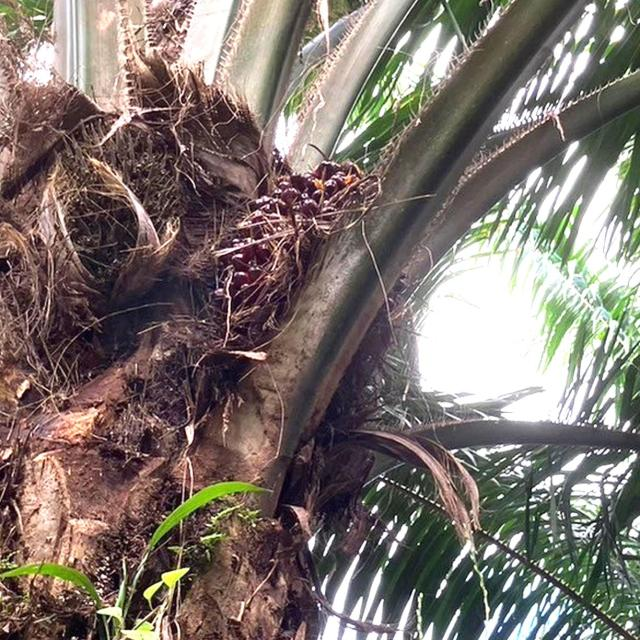ripe: (224, 162, 362, 338)
